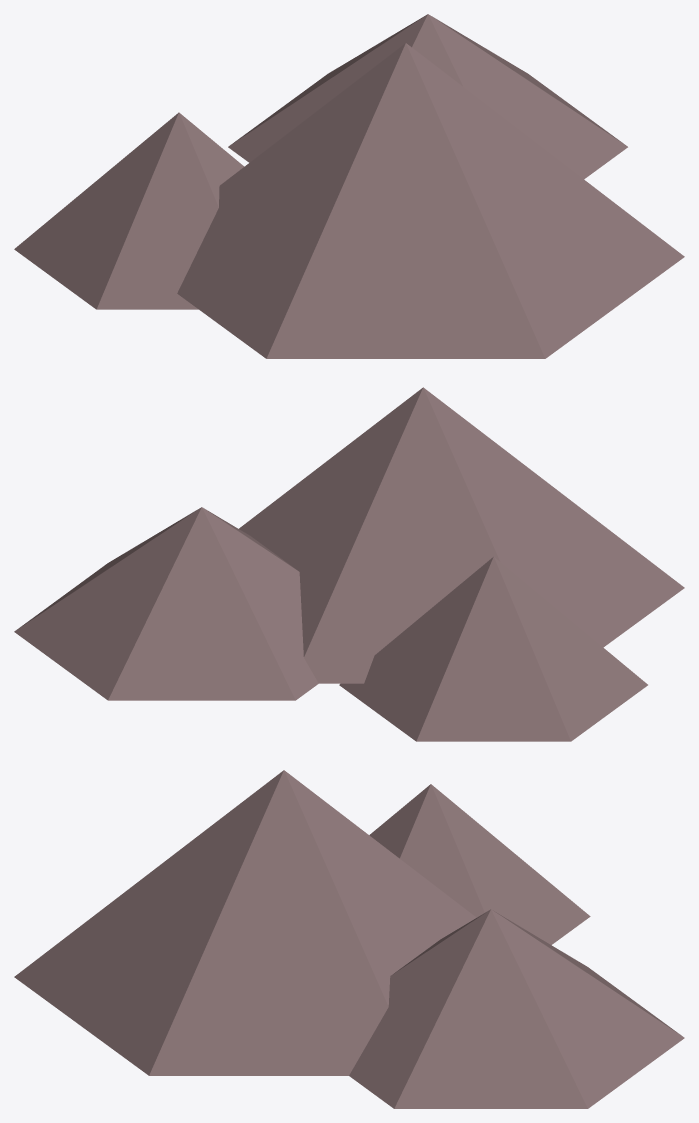
File: Mountains.fbx
The picture shows the model from 3 angles, top to bottom: view 1: azimuth 30°, elevation 25°; view 2: azimuth 150°, elevation 25°; view 3: azimuth 270°, elevation 25°; orthographic projection. The views are drawn at different scales.
Visible parts, largest first — view 1: Mountain; view 2: Mountain; view 3: Mountain.
Part boxes in pixels (left/top/right/bottom): Mountain: left=14, top=14, right=684, bottom=358; Mountain: left=14, top=387, right=684, bottom=741; Mountain: left=14, top=770, right=684, bottom=1108.
Size of the model in its own units: 147 by 57.18 by 160.
